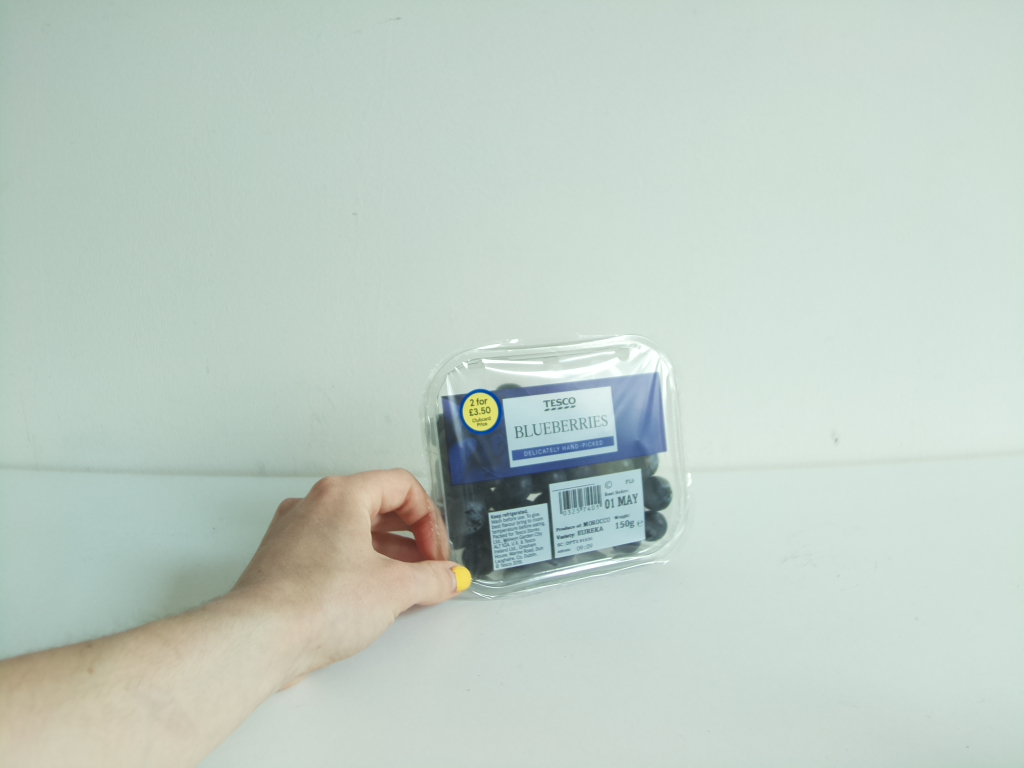soft-fruit: (415, 338, 698, 598)
